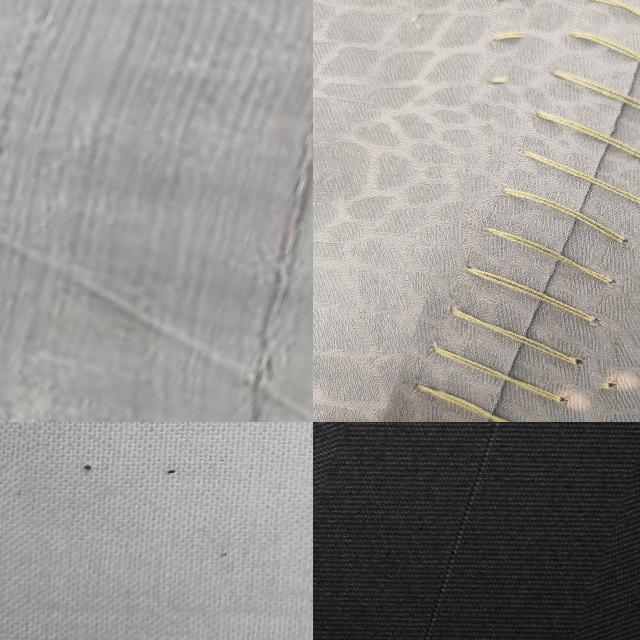Thread_other: (28, 422, 227, 579)
Thread_out: (399, 0, 640, 422)
stains: (322, 422, 640, 640)
